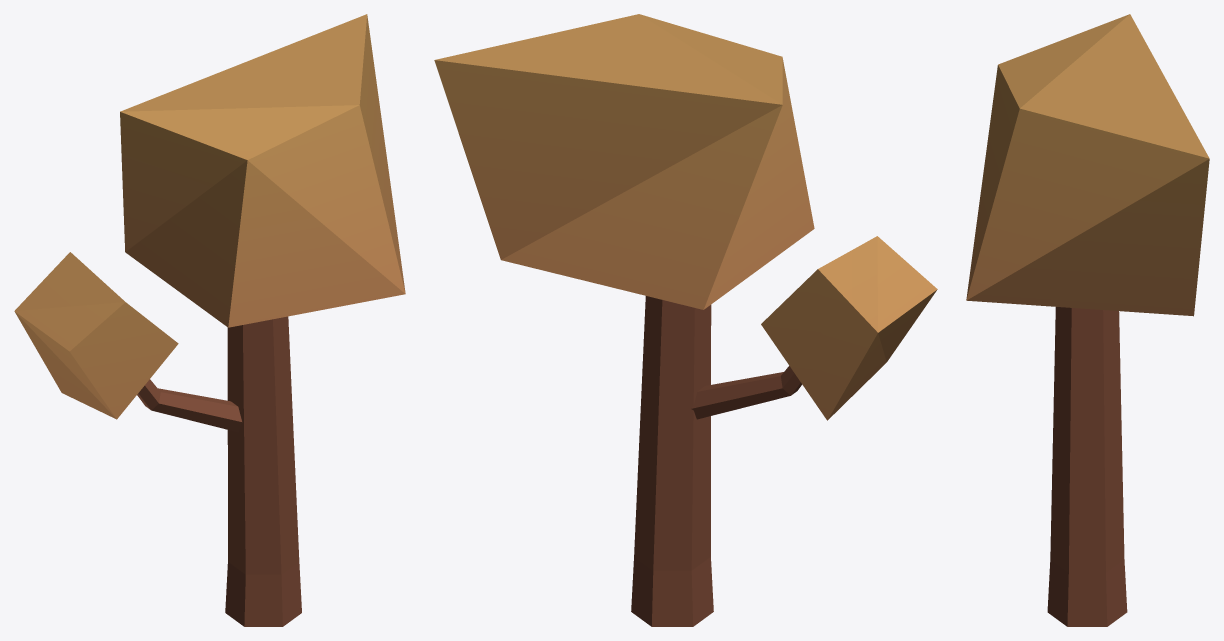
The model's file is Tree_45_gradient_yellow_vc.fbx.
3 views of the same model, side by side, from view 1: azimuth 30°, elevation 25°; view 2: azimuth 150°, elevation 25°; view 3: azimuth 270°, elevation 25° (orthographic). The views are drawn at different scales.
Parts seen in each view (by area): view 1: Tree_45_gradient_yellow_vc; view 2: Tree_45_gradient_yellow_vc; view 3: Tree_45_gradient_yellow_vc.
Part boxes in pixels (x1=…): Tree_45_gradient_yellow_vc: x1=14, y1=14, x2=405, y2=626; Tree_45_gradient_yellow_vc: x1=434, y1=14, x2=937, y2=626; Tree_45_gradient_yellow_vc: x1=966, y1=14, x2=1209, y2=626.
Bounding box in the file's own units: 139 × 179 × 73.58.
